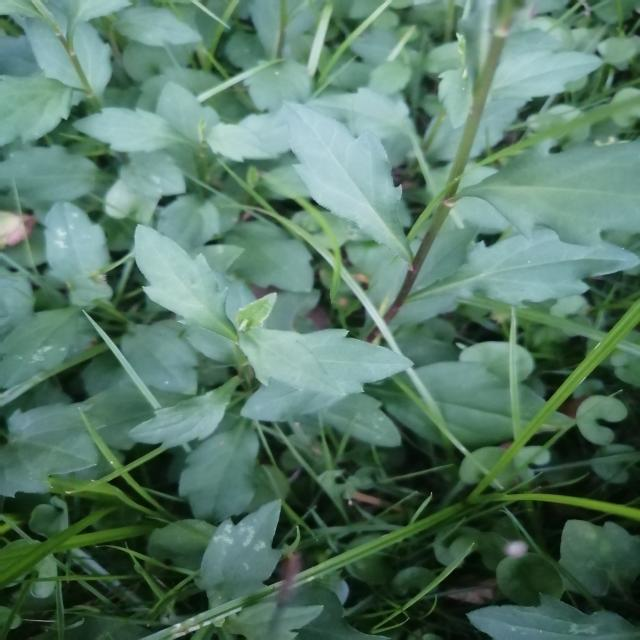Indian aster: (266, 28, 638, 325), (137, 246, 416, 446)
